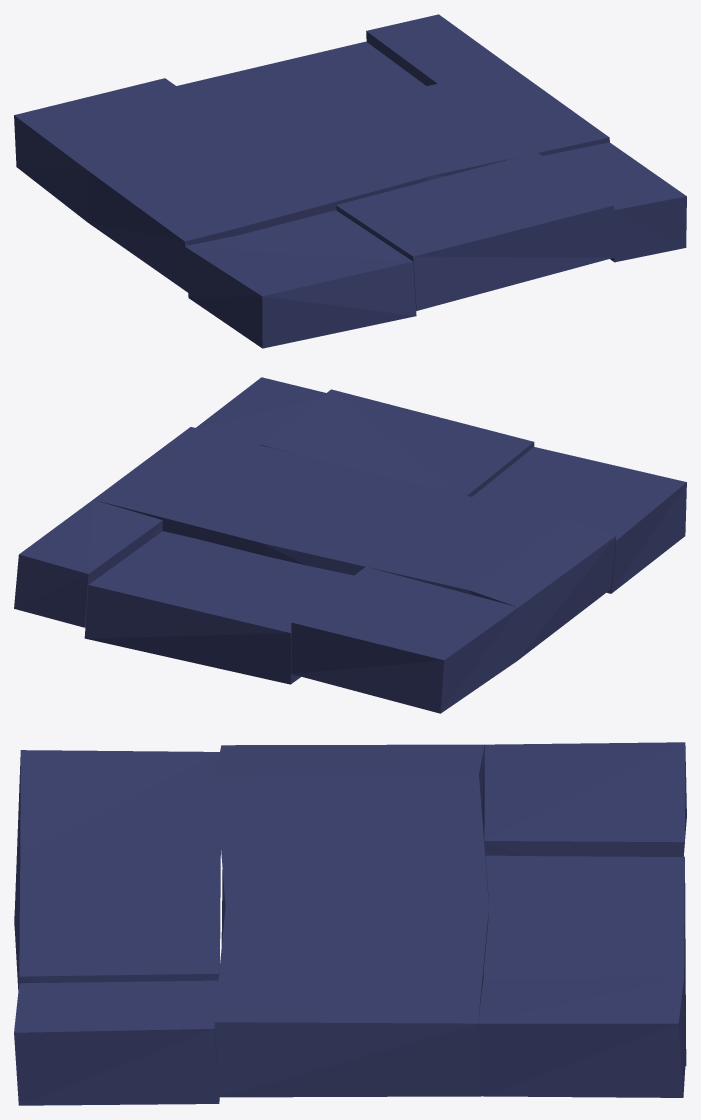
Rendered from Floor.FBX.
3 renders of one model, top to bottom at view 1: azimuth 30°, elevation 25°; view 2: azimuth 150°, elevation 25°; view 3: azimuth 270°, elevation 25°, orthographic. The views are drawn at different scales.
Parts seen in each view (by area): view 1: Object055, Object054, Object053, Object056, Object051, Object059, Object052, Object057, Object058; view 2: Object059, Object051, Object053, Object056, Object055, Object054, Object052, Object058, Object057; view 3: Object056, Object053, Object055, Object057, Object058, Object059, Object051, Object054, Object052.
Boxes of the visible parts, box(x1,y1,x2,y2) form: Object055: box(336, 152, 614, 310); Object054: box(185, 210, 416, 348); Object053: box(141, 105, 434, 235); Object056: box(338, 68, 609, 178); Object051: box(14, 78, 238, 222); Object059: box(176, 41, 426, 130); Object052: box(88, 157, 237, 292); Object057: box(543, 142, 686, 262); Object058: box(366, 14, 512, 85); Object059: box(84, 531, 353, 684); Object051: box(291, 567, 518, 713); Object053: box(262, 471, 566, 593); Object056: box(93, 427, 359, 555); Object055: box(260, 389, 534, 496); Object054: box(472, 447, 686, 593); Object052: box(469, 519, 615, 660); Object058: box(14, 499, 162, 627); Object057: box(196, 377, 325, 444); Object056: box(214, 907, 488, 1097); Object053: box(215, 774, 488, 945); Object055: box(14, 846, 220, 990); Object057: box(14, 980, 219, 1105); Object058: box(478, 977, 686, 1097); Object059: box(483, 855, 686, 1066); Object051: box(482, 742, 686, 856); Object054: box(14, 750, 220, 925); Object052: box(215, 744, 484, 806).
Size of the model in its own units: 40.5 by 6.12 by 40.5.
